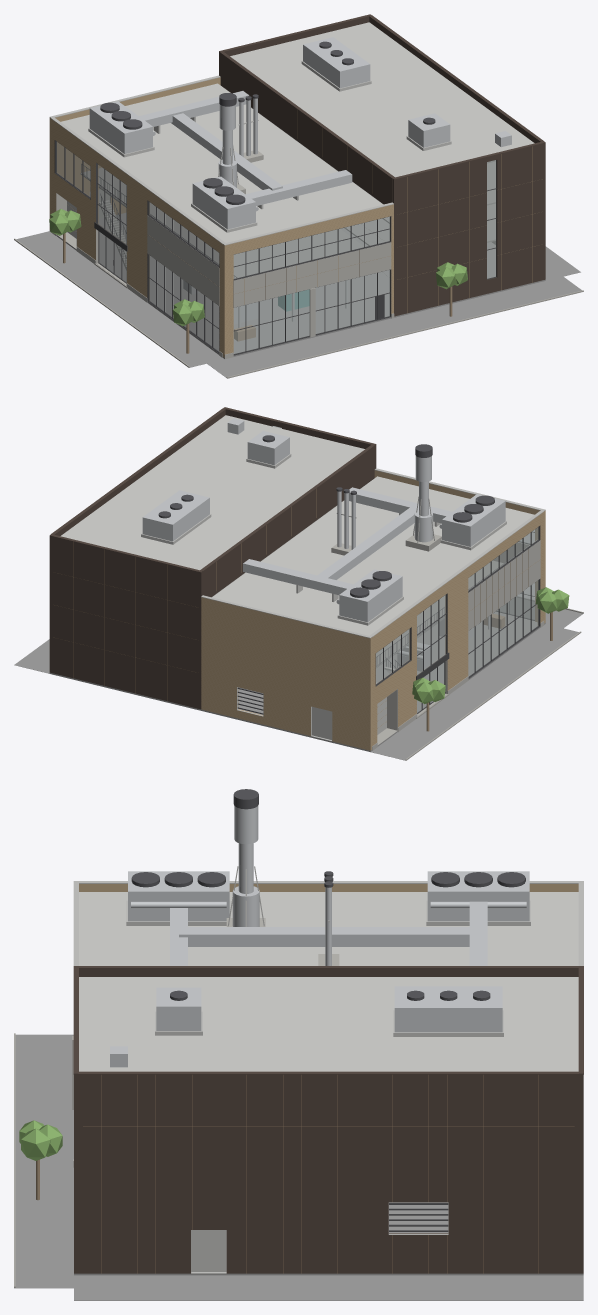
The model's file is clay-energy-centre-clay-v005.glb.
The picture shows the model from 3 angles, top to bottom: view 1: azimuth 30°, elevation 25°; view 2: azimuth 150°, elevation 25°; view 3: azimuth 270°, elevation 25°; orthographic projection. The views are drawn at different scales.
Parts seen in each view (by area): view 1: CLAY_MEMBRANE, CLAY_CORTEN, CLAY_FOUNDATION, CLAY_GLASS, CLAY_STEEL, CLAY_WALL, CLAY_CONCRETE, CLAY_FLOOR, CLAY_TRIM, CLAY_PALE, CLAY_HARDWARE, CLAY_JOINT (+3 smaller); view 2: CLAY_MEMBRANE, CLAY_CORTEN, CLAY_WALL, CLAY_STEEL, CLAY_FOUNDATION, CLAY_GLASS, CLAY_CONCRETE, CLAY_PALE, CLAY_JOINT, CLAY_TRIM, CLAY_HARDWARE, CLAY_FLOOR (+2 smaller); view 3: CLAY_CORTEN, CLAY_MEMBRANE, CLAY_FOUNDATION, CLAY_STEEL, CLAY_PALE, CLAY_HARDWARE, CLAY_JOINT, CLAY_WALL, CLAY_PLANTING.
Part boxes in pixels (x1,y1,x2,y2): CLAY_MEMBRANE: (61, 22, 534, 242); CLAY_CORTEN: (219, 14, 545, 316); CLAY_FOUNDATION: (16, 213, 581, 378); CLAY_GLASS: (56, 142, 495, 353); CLAY_STEEL: (89, 37, 511, 327); CLAY_WALL: (49, 77, 393, 357); CLAY_CONCRETE: (51, 150, 394, 359); CLAY_FLOOR: (80, 107, 495, 278); CLAY_TRIM: (54, 140, 496, 355); CLAY_PALE: (49, 61, 495, 270); CLAY_HARDWARE: (81, 41, 435, 278); CLAY_JOINT: (51, 109, 542, 352); CLAY_MEMBRANE: (60, 415, 534, 635); CLAY_CORTEN: (49, 407, 376, 709); CLAY_WALL: (201, 470, 545, 750); CLAY_STEEL: (142, 418, 505, 683); CLAY_FOUNDATION: (14, 598, 582, 760); CLAY_GLASS: (272, 426, 538, 712); CLAY_CONCRETE: (331, 534, 544, 750); CLAY_PALE: (141, 453, 545, 741); CLAY_JOINT: (53, 488, 543, 749); CLAY_TRIM: (271, 425, 540, 713); CLAY_HARDWARE: (158, 435, 513, 714); CLAY_FLOOR: (212, 500, 503, 668); CLAY_CORTEN: (73, 966, 583, 1273); CLAY_MEMBRANE: (79, 892, 578, 1071); CLAY_FOUNDATION: (14, 1034, 583, 1300); CLAY_STEEL: (110, 806, 529, 1067); CLAY_PALE: (73, 866, 583, 1273); CLAY_HARDWARE: (131, 789, 525, 1231); CLAY_JOINT: (83, 1075, 574, 1273); CLAY_WALL: (79, 884, 578, 891); CLAY_PLANTING: (19, 1120, 62, 1160).
Size of the model in its own units: 44.1 by 21.9 by 38.03.
